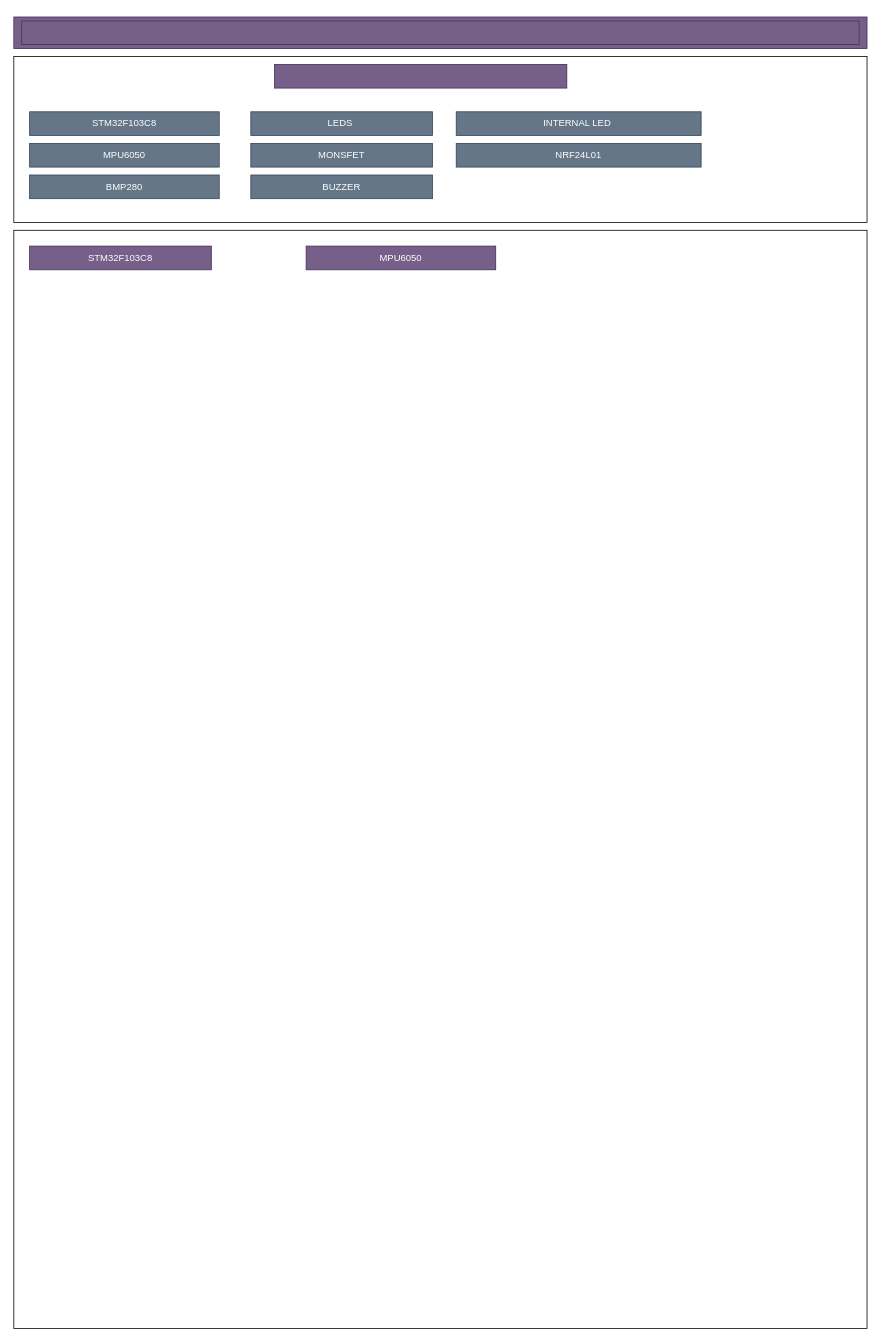
Some shapes in this 881 by 1342 pixel diagram are drawn without their labels. The centre of each missing label's shape, as x and y in pixels:
COMPONENTS LIST :-: the point at 420,76
FIGHTER-FLIGHT-COMPUTER-VERSION-TWO: the point at 440,32
